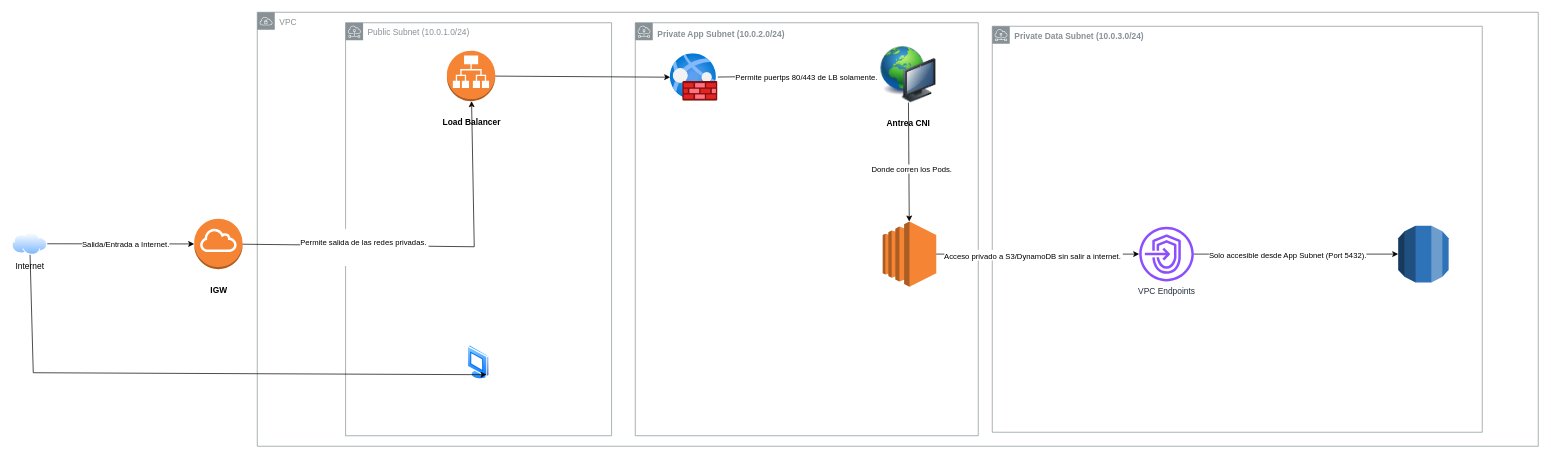
The diagram is 1551 pixels wide and 459 high, and some of its shapes have lost their labels. The centre of each missing label's shape, as x and y in pixels:
"Bastion Host" belongs at (478,361).
"RDS Instance" belongs at (1423,253).
"Security Group" belongs at (694,77).
"Worker Node" belongs at (909,254).
